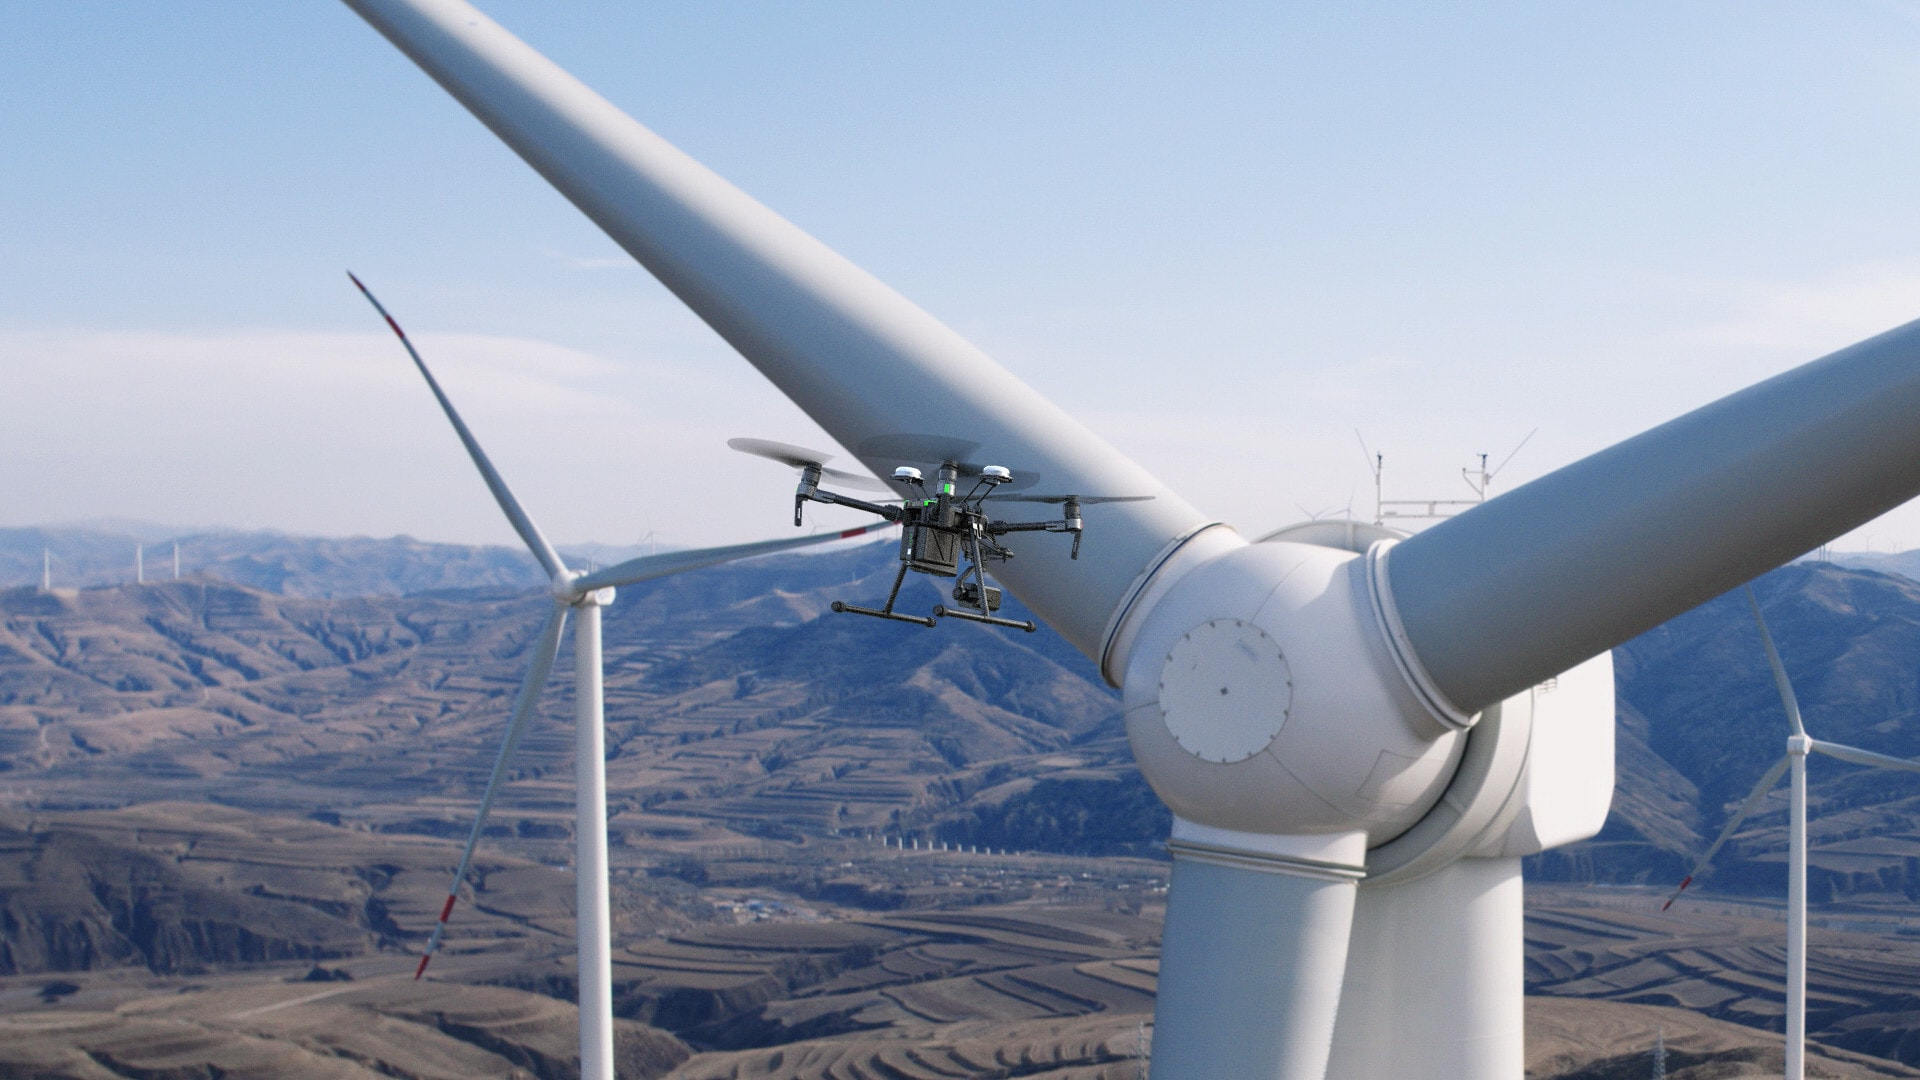drone: (727, 431, 1160, 637)
